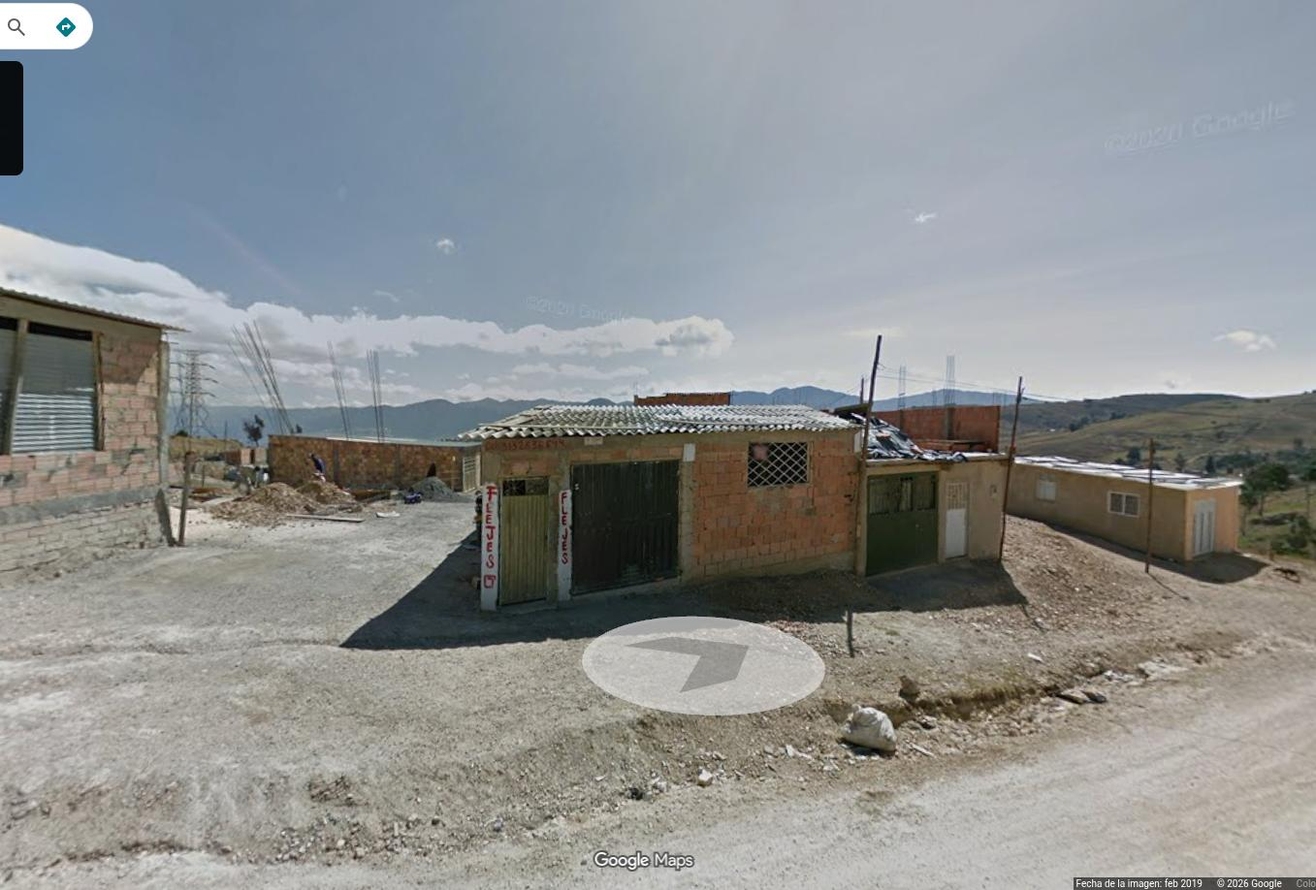casa: (464, 404, 869, 610), (1009, 456, 1236, 560), (861, 452, 1013, 574)
